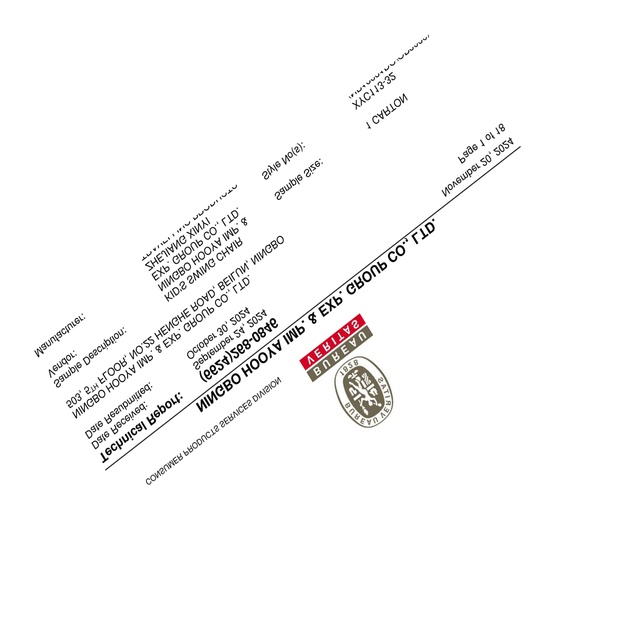bureau_veritas: (298, 313, 394, 428)
